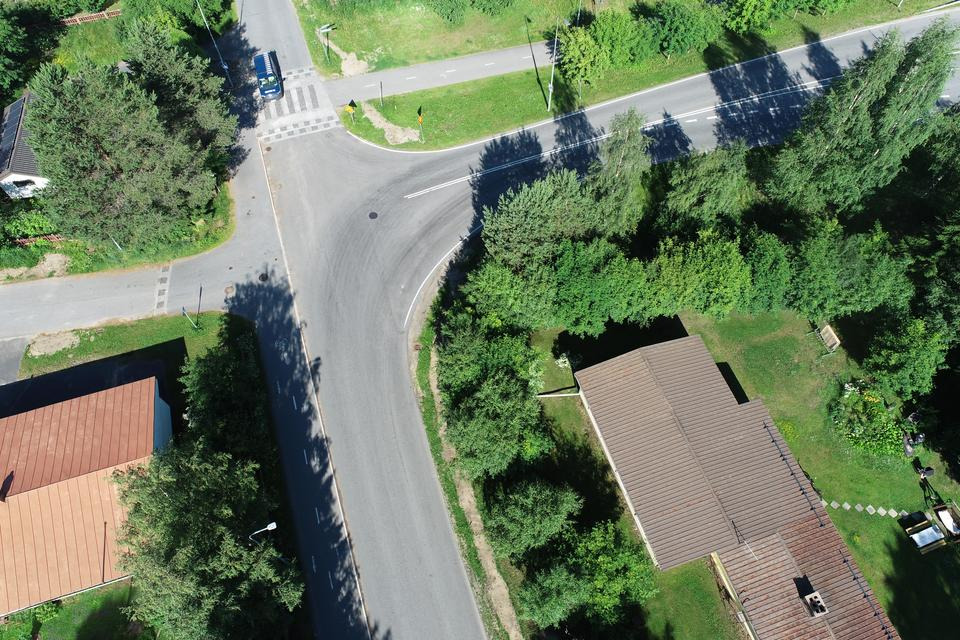intersection: (182, 149, 496, 368), (180, 47, 401, 137)
